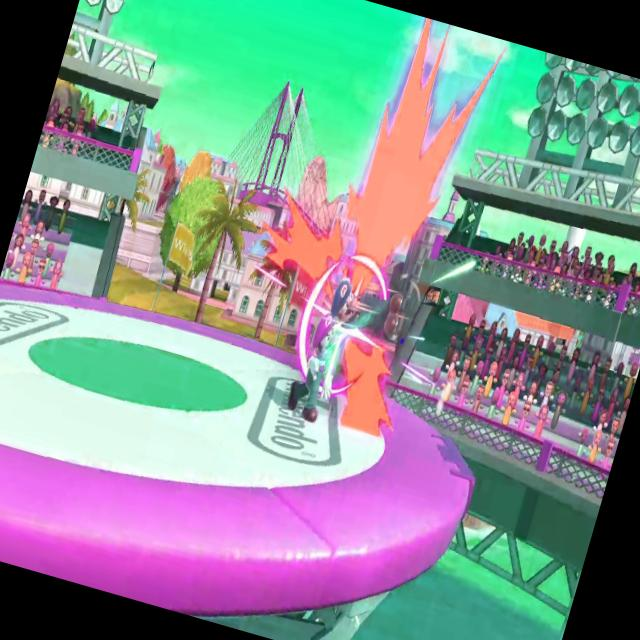Mario: (280, 302, 358, 434)
Mario-BA: (316, 257, 412, 362)
